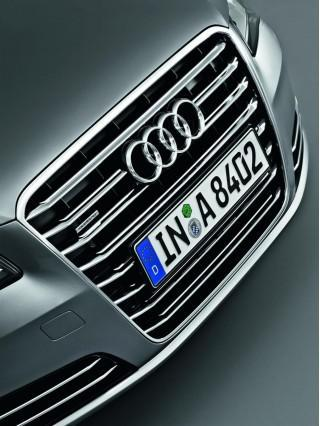Audi: (117, 80, 213, 188)
